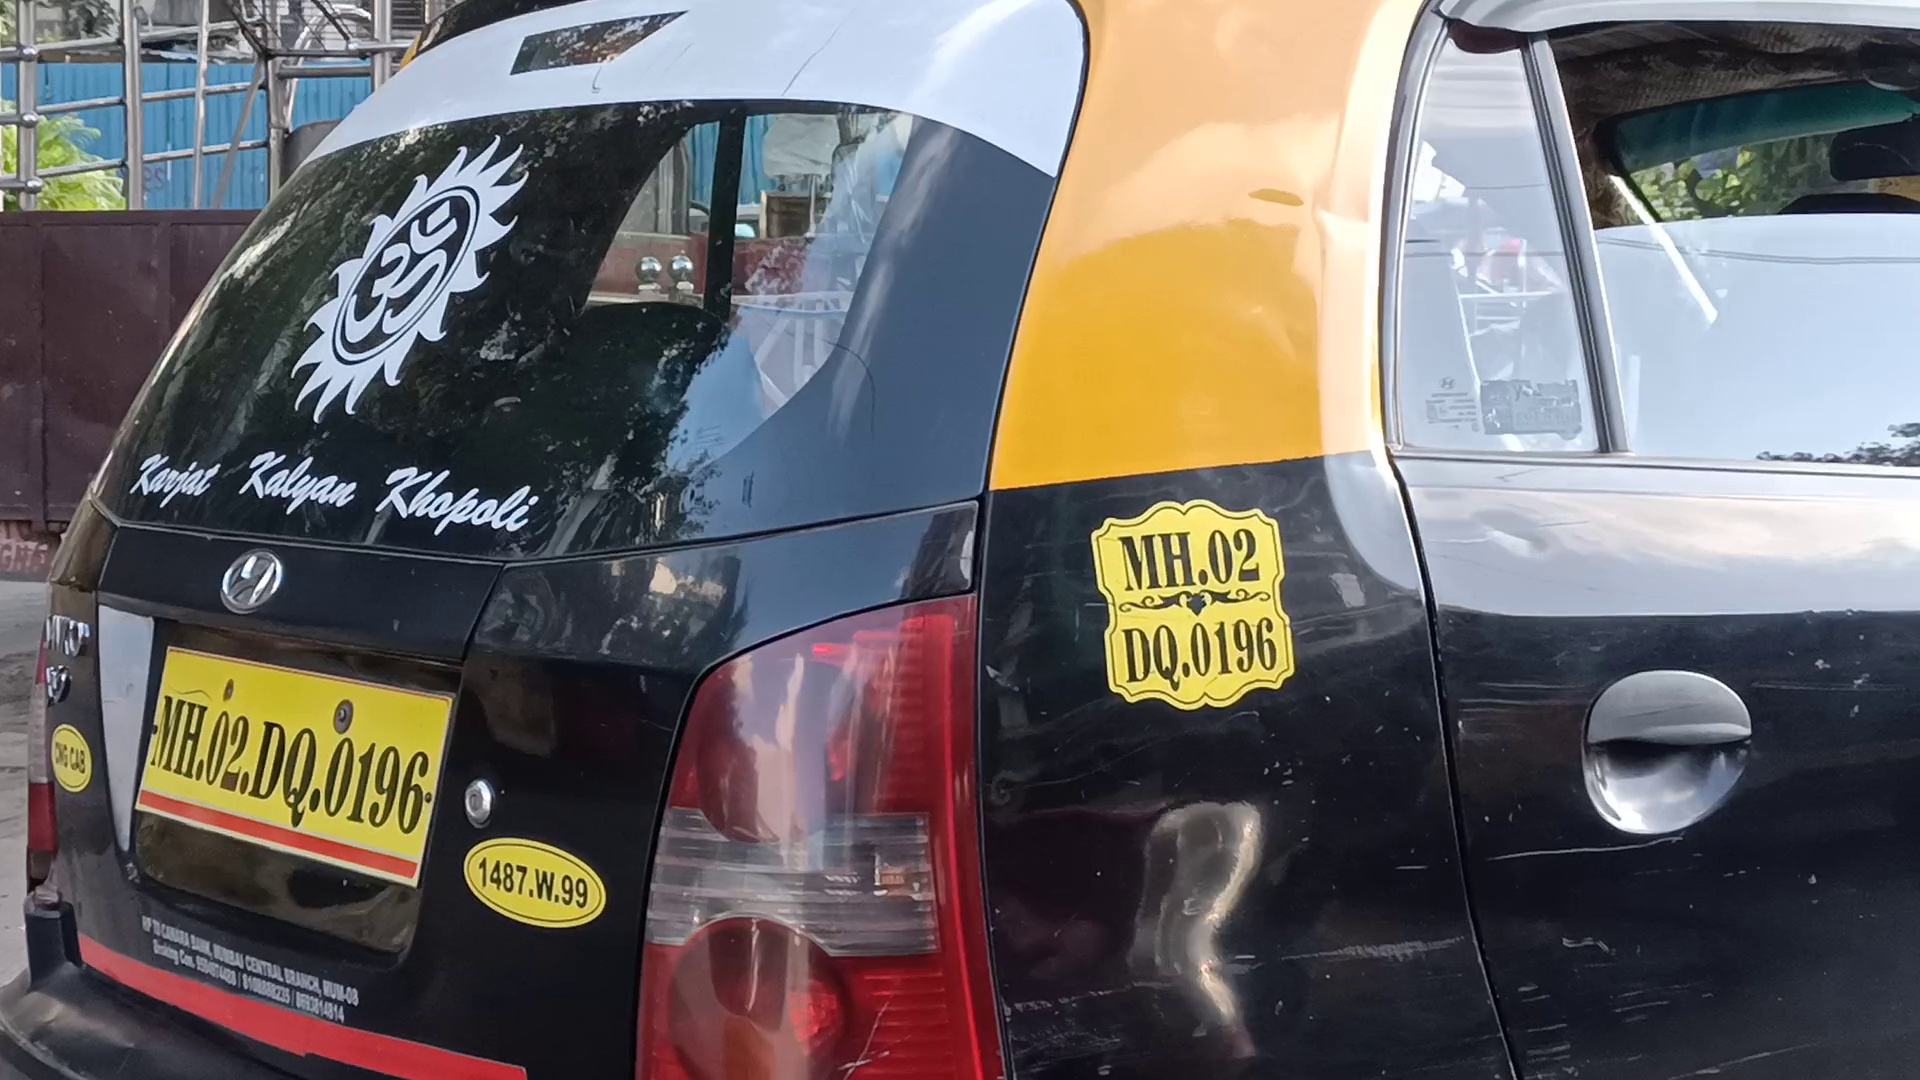MH02DQ0196: (133, 644, 452, 887)
